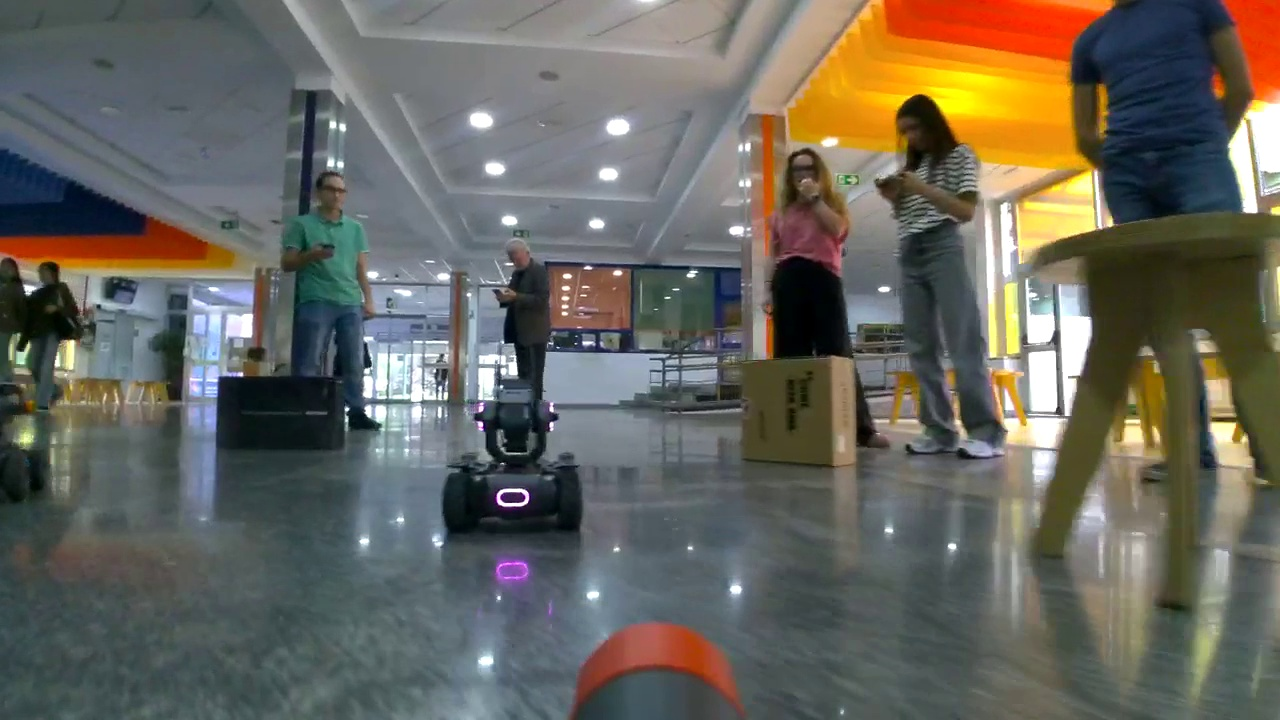robot: (438, 376, 585, 530)
